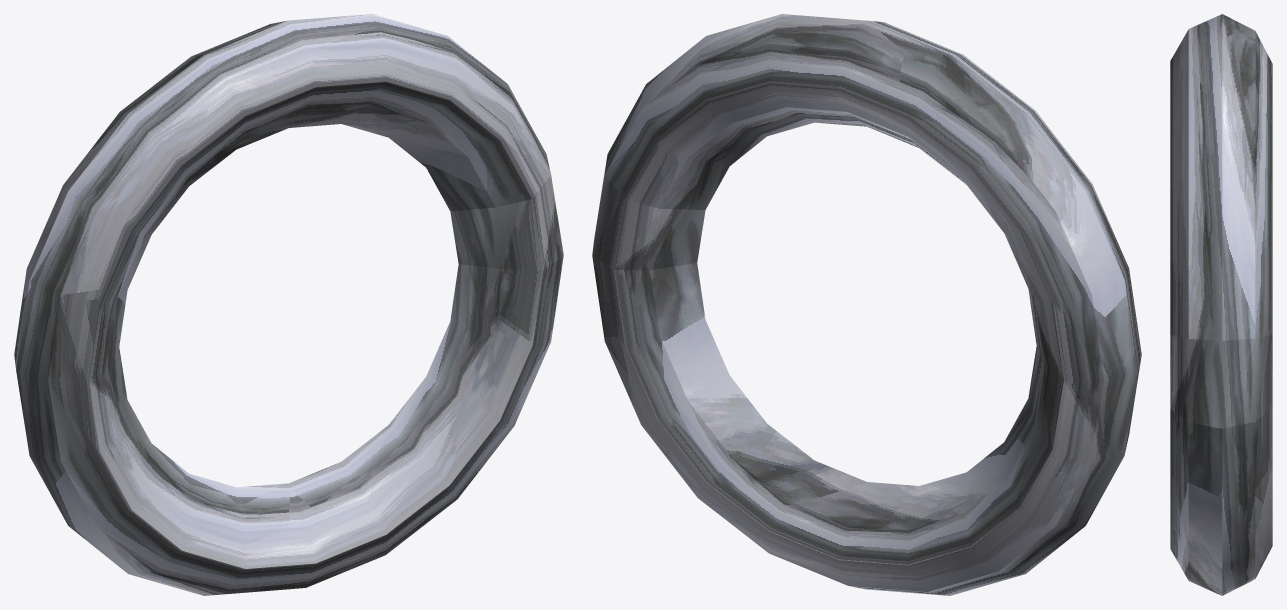
File: Silver Ring.obj
3 renders of one model, left to right at view 1: azimuth 30°, elevation 25°; view 2: azimuth 150°, elevation 25°; view 3: azimuth 270°, elevation 25°, orthographic. The views are drawn at different scales.
Visible parts, largest first — view 1: Mesh_0060; view 2: Mesh_0060; view 3: Mesh_0060.
Part boxes in pixels (x1,y1,x2,y2): Mesh_0060: [14, 14, 563, 595]; Mesh_0060: [592, 14, 1141, 595]; Mesh_0060: [1170, 14, 1272, 595].
Size of the model in its own units: 4.87 by 4.87 by 0.8526.
1 material, 1 textured.
